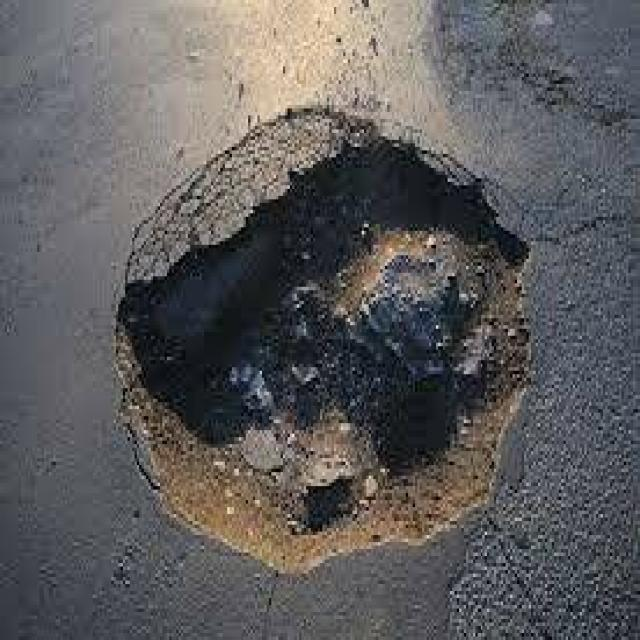Buraco: (108, 129, 547, 579)
